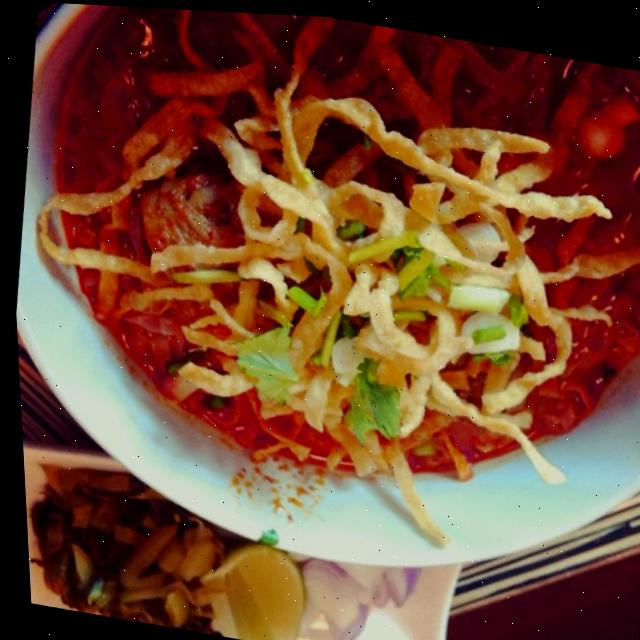面条主食: (0, 0, 640, 594)
